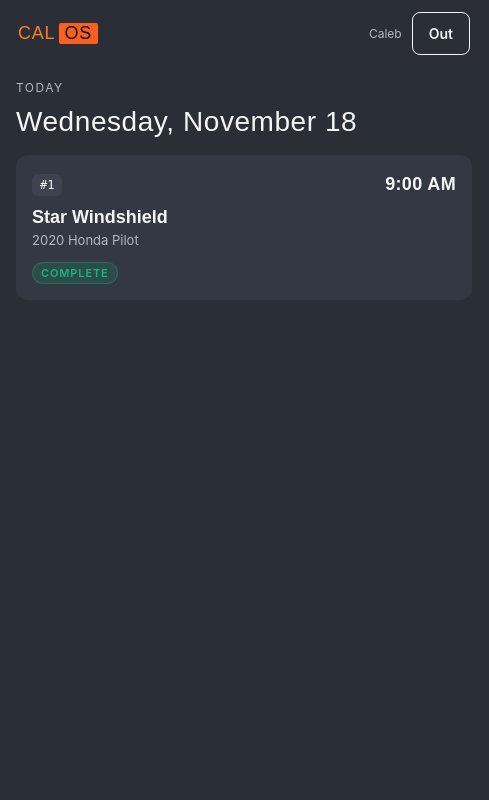
Scenario: the complete confirmation says when the charge failed
Click the button with test id "field-job-job-1".
click(47, 184)  # box [16,155,472,300]
(page scrolled)
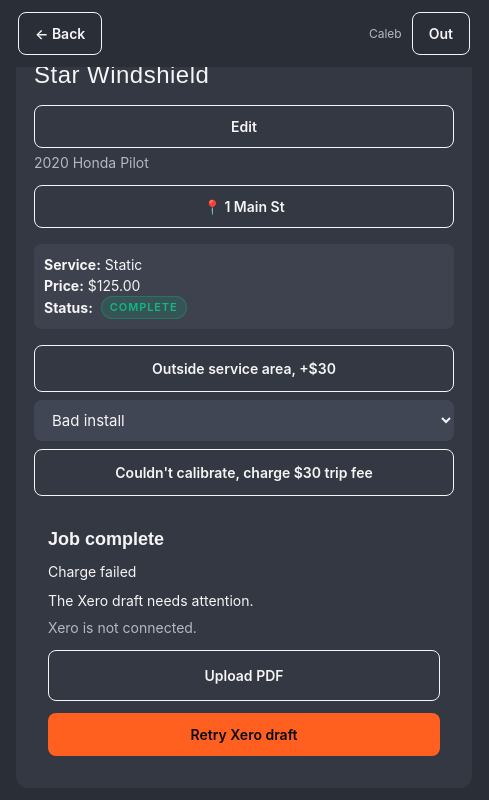
Expected: the text with test id "payment-status-line" reads "Charge failed", [48,562,136,580]
Expected: the element with test id "xero-draft-status" shows "needs attention", [48,592,254,608]
